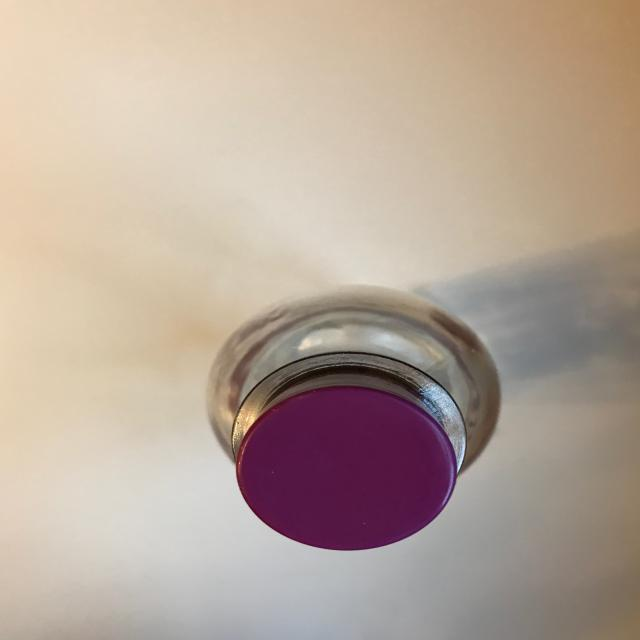glass: (205, 283, 502, 552)
